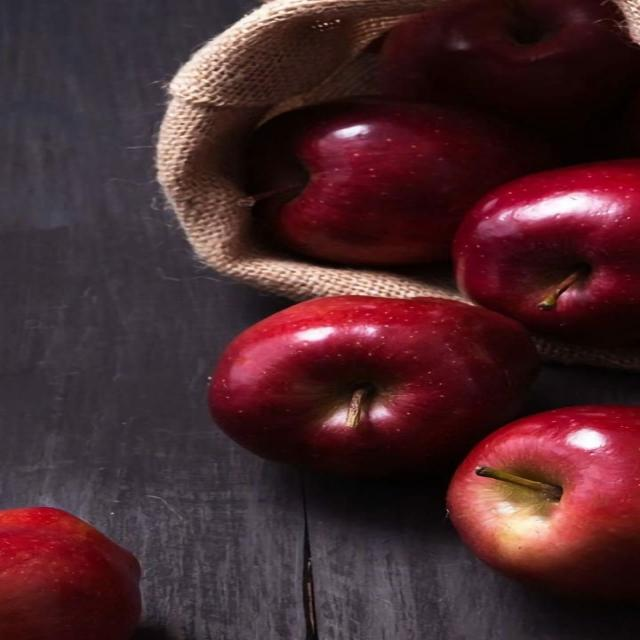apple: (210, 296, 538, 475), (250, 98, 552, 265), (448, 406, 639, 599), (381, 0, 639, 135), (454, 159, 639, 346), (0, 508, 140, 639)
